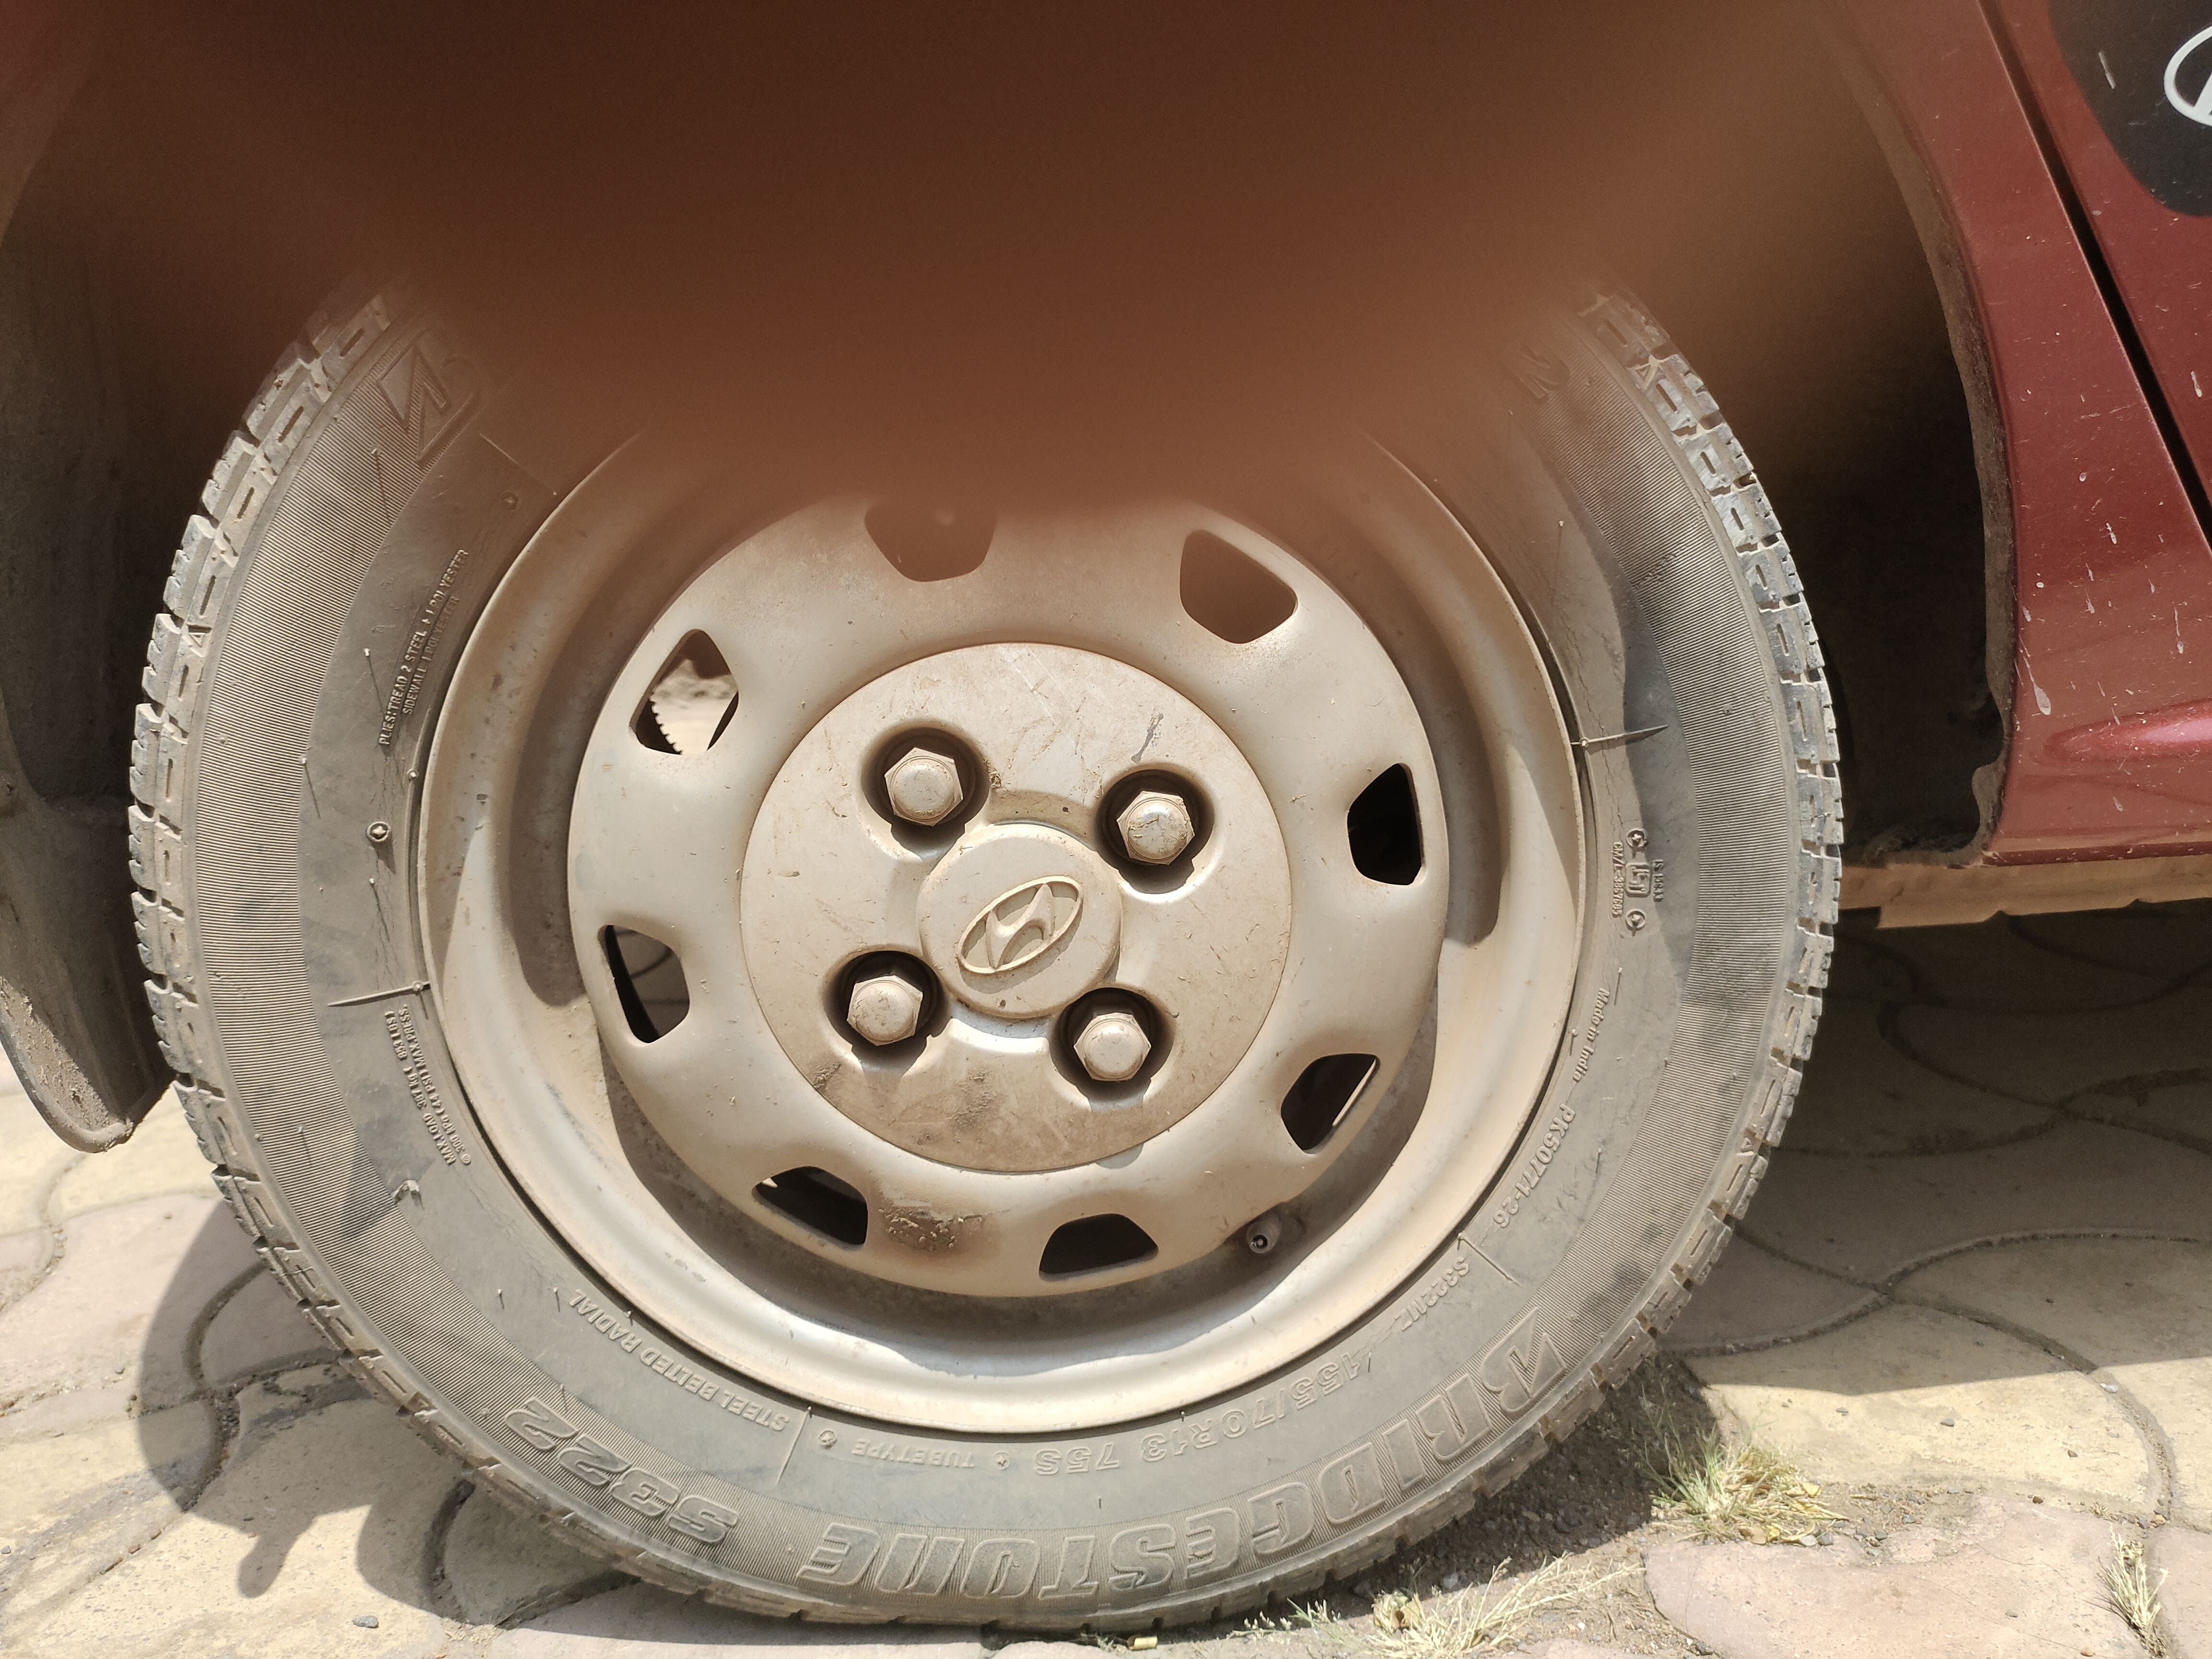l: (808, 945, 956, 1077), (852, 728, 986, 856), (1076, 770, 1211, 896), (1038, 979, 1177, 1100)
